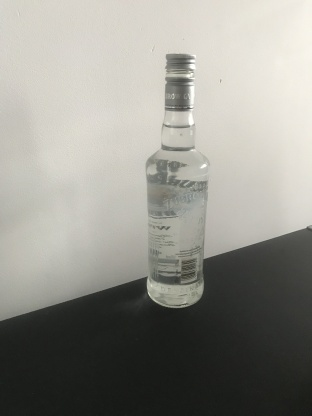nakretka: (163, 51, 196, 111)
